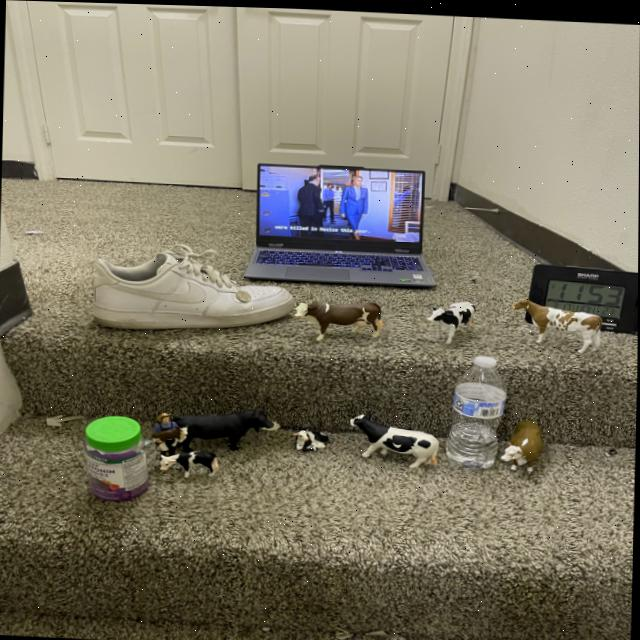cow: (342, 410, 442, 473), (506, 292, 606, 353), (174, 408, 280, 451), (293, 294, 384, 341), (497, 412, 552, 476), (423, 286, 481, 343), (160, 447, 219, 478), (151, 423, 190, 446), (294, 427, 330, 449)
person: (152, 409, 180, 433)
